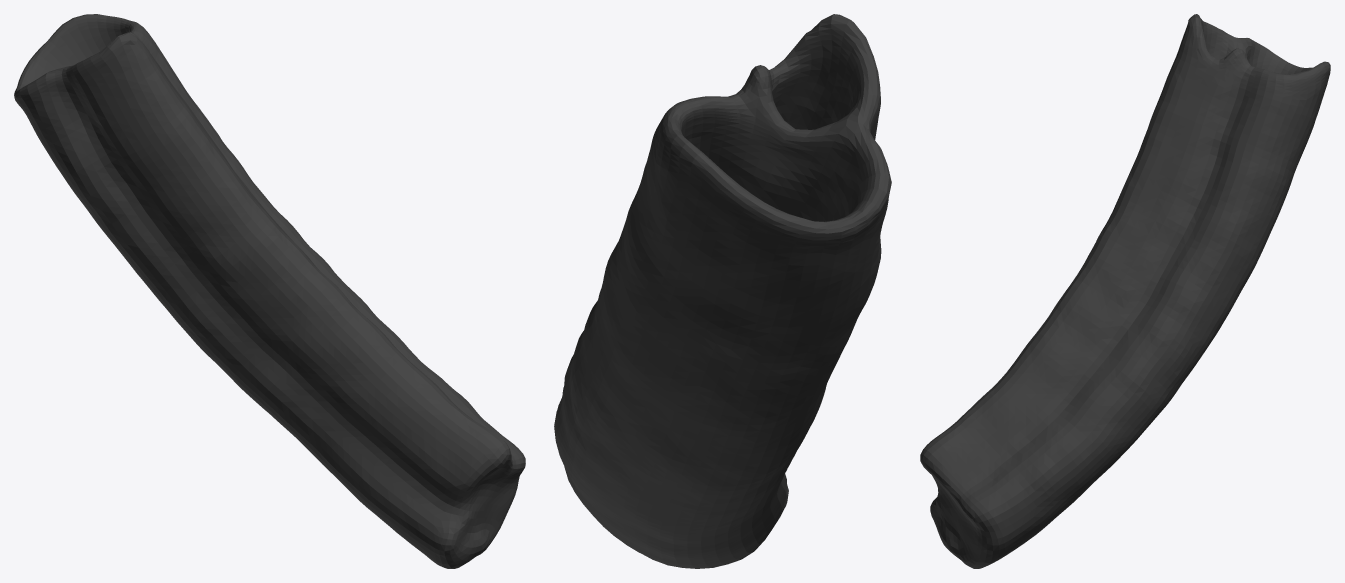
The model's file is tooth_rabbit_411_low.glb.
3 views of the same model, side by side, from view 1: azimuth 30°, elevation 25°; view 2: azimuth 150°, elevation 25°; view 3: azimuth 270°, elevation 25° (orthographic). The views are drawn at different scales.
Visible parts, largest first — view 1: tooth_rabbit_411_low; view 2: tooth_rabbit_411_low; view 3: tooth_rabbit_411_low.
Part boxes in pixels (x1,y1,x2,y2): tooth_rabbit_411_low: [14, 14, 525, 568]; tooth_rabbit_411_low: [554, 14, 891, 568]; tooth_rabbit_411_low: [920, 14, 1330, 568].
Bounding box in the file's own units: 0.4528 × 0.6044 × 0.4975.
Materials: 1 (1 with a texture image).
